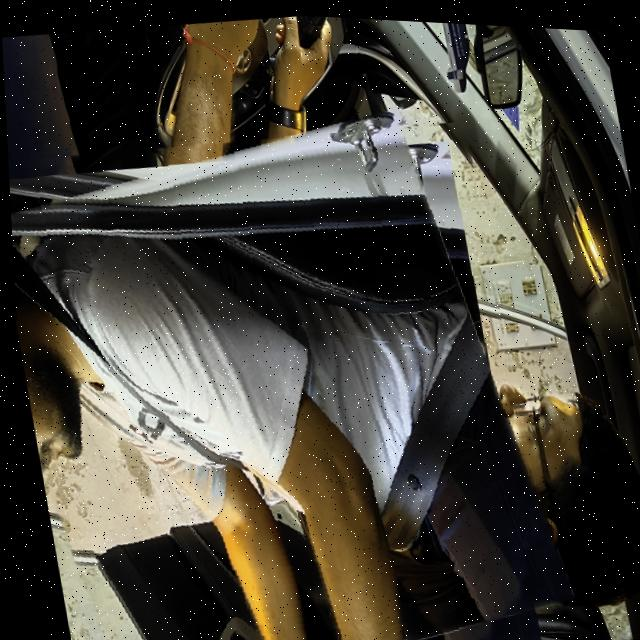seatbelt: (4, 96, 555, 640)
